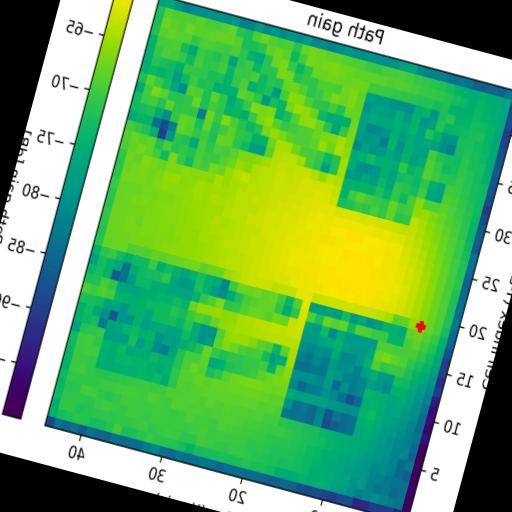Concrete: (142, 40, 253, 177)
Glass: (336, 92, 439, 226)
Metal: (95, 254, 204, 388)
Wood: (279, 302, 382, 435)
